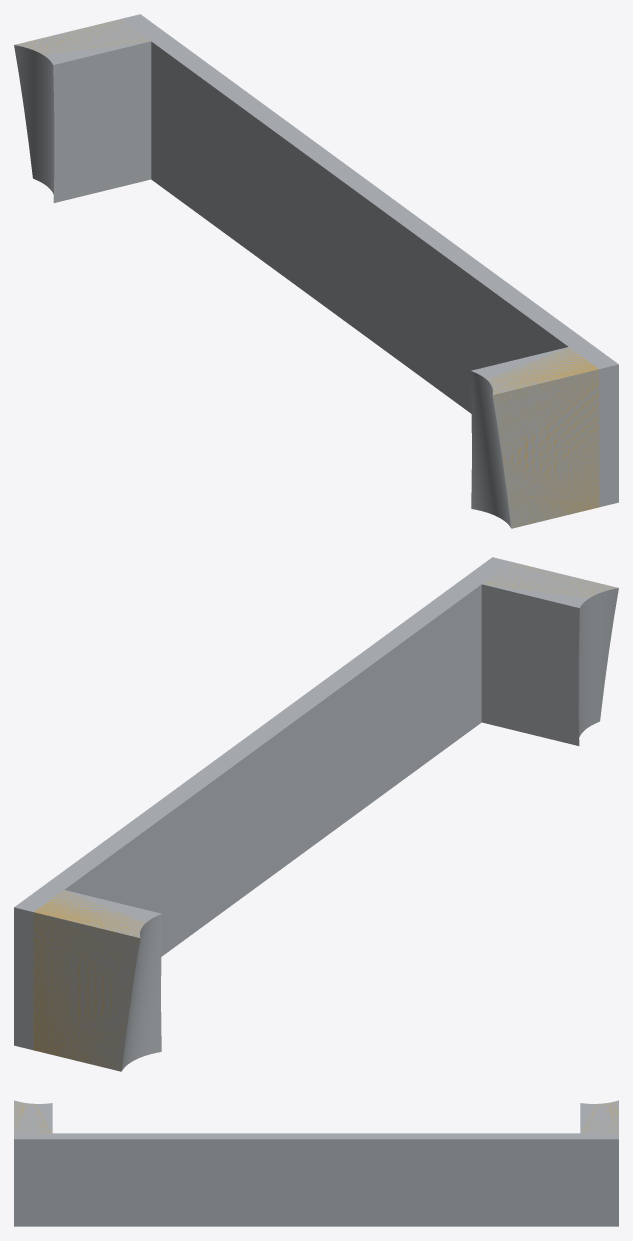
File: step_02.glb
3 renders of one model, top to bottom at view 1: azimuth 30°, elevation 25°; view 2: azimuth 150°, elevation 25°; view 3: azimuth 270°, elevation 25°, orthographic. The views are drawn at different scales.
Visible parts, largest first — view 1: part__upper panel bracket, added__upper panel bracket; view 2: part__upper panel bracket, added__upper panel bracket; view 3: part__upper panel bracket, added__upper panel bracket.
Boxes of the visible parts, x1,y1,x2,y2 form: part__upper panel bracket: (14,14,618,528); added__upper panel bracket: (16,20,599,528); part__upper panel bracket: (14,557,618,1071); added__upper panel bracket: (33,562,617,1071); part__upper panel bracket: (14,1100,618,1226); added__upper panel bracket: (14,1100,618,1133).
Bounding box in the file's own units: 38.32 × 40 × 251.
